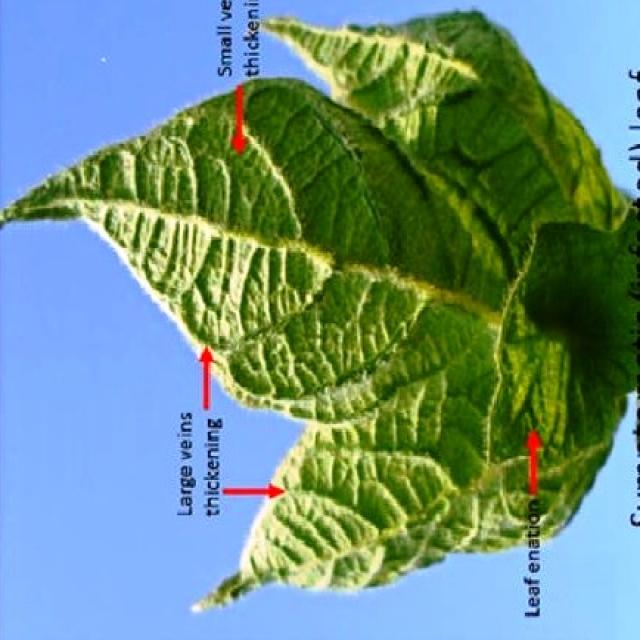Leaf Curl Virus: (194, 102, 631, 446)
